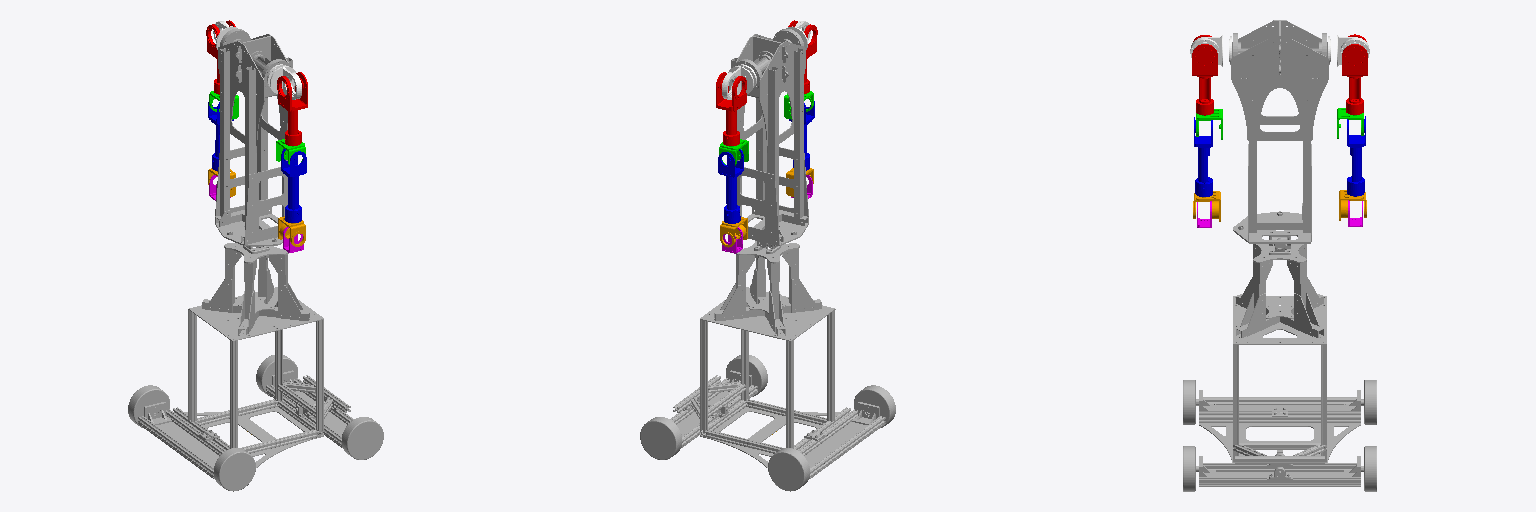
robot.urdf — neurofull:
<robot
  name="neurofull">
  <link 
    name="base_footprint">
    <visual>
    <origin rpy="0 0 0" xyz="0 0 0"/>
    <geometry>
       <box size="0.05 0.05 0.001"/>
    </geometry>
    <material name="TransparentGreen"/>
    </visual>
  </link>


  <link
    name="base_leg">
    <inertial>
      <origin
        xyz="0.00400262678839125 2.1950555277872E-06 0.0344645056443236"
        rpy="0 0 0" />
      <mass
        value="4.96180110119092" />
      <inertia
        ixx="0.260181029472697"
        ixy="-1.8355788022317E-06"
        ixz="-0.00155137956745712"
        iyy="0.263728282272559"
        iyz="1.00993985627843E-07"
        izz="0.488283544882969" />
    </inertial>
    <visual>
      <origin
        xyz="0 0 0"
        rpy="0 0 0" />
      <geometry>
        <mesh
          filename="package://neurofull/meshes/base_leg.stl" />
      </geometry>
      <material
        name="">
        <color
          rgba="0.752941176470588 0.752941176470588 0.752941176470588 1" />
      </material>
    </visual>
    <collision>
      <origin
        xyz="0 0 0"
        rpy="0 0 0" />
      <geometry>
        <mesh
          filename="package://neurofull/meshes/base_leg.stl" />
      </geometry>
    </collision>
  </link>

  <joint name="joint_footprint" type="fixed">
    <origin rpy="0 0 0" xyz="0 0 0"/>
    <parent link="base_footprint"/>
    <child link="base_leg"/>
  </joint>


  <link
    name="base_link">
    <inertial>
      <origin
        xyz="-0.00763079814674683 -0.000785897750140402 0.497022585106364"
        rpy="0 0 0" />
      <mass
        value="2.64772097817827" />
      <inertia
        ixx="0.355578054616091"
        ixy="0.00054044346883383"
        ixz="0.00826972267071127"
        iyy="0.354512666156879"
        iyz="-0.00128012471195156"
        izz="0.0346040156500564" />
    </inertial>
    <visual>
      <origin
        xyz="0 0 0"
        rpy="0 0 0" />
      <geometry>
        <mesh
          filename="package://neurofull/meshes/base_link.stl" />
      </geometry>
      <material
        name="">
        <color
          rgba="0.752941176470588 0.752941176470588 0.752941176470588 1" />
      </material>
    </visual>
    <collision>
      <origin
        xyz="0 0 0"
        rpy="0 0 0" />
      <geometry>
        <mesh
          filename="package://neurofull/meshes/base_link.stl" />
      </geometry>
    </collision>
  </link>
  <joint
    name="base_link_joint"
    type="fixed">
    <origin
      xyz="0 0 0.423"
      rpy="0 0 0" />
    <parent
      link="base_leg" />
    <child
      link="base_link" />
    <axis
      xyz="0 0 0" />
  </joint>

  <link
    name="left_arm_link0">
  </link>
  <joint
    name="left_arm_joint0"
    type="fixed">
    <origin
      xyz="0 0.146 0.917"
      rpy="-1.5708 0 0" />
    <parent
      link="base_link" />
    <child
      link="left_arm_link0" />
    <axis
      xyz="0 0 0" />
  </joint>




  <link
    name="left_arm_link1">
    <inertial>
      <origin
        xyz="0.00300938170182485 4.17797500410488E-05 0.0472461416838423"
        rpy="0 0 0" />
      <mass
        value="0.139895412046326" />
      <inertia
        ixx="0.000291527799787079"
        ixy="7.02048677679412E-07"
        ixz="-1.54733263205051E-05"
        iyy="0.000240969210302021"
        iyz="-2.14818780078269E-07"
        izz="0.000151629908718559" />
    </inertial>
    <visual>
      <origin
        xyz="0 0 0"
        rpy="0 0 0" />
      <geometry>
        <mesh
          filename="package://neurofull/meshes/left_arm_link1.stl" />
      </geometry>
      <material
        name="">
        <color
          rgba="1 1 1 1" />
      </material>
    </visual>
    <collision>
      <origin
        xyz="0 0 0"
        rpy="0 0 0" />
      <geometry>
        <mesh
          filename="package://neurofull/meshes/left_arm_link1.stl" />
      </geometry>
    </collision>
  </link>
  <joint
    name="left_arm_join1"
    type="revolute">
    <origin
      xyz="0 0 0.001"
      rpy="0 0 0" />
    <parent
      link="left_arm_link0" />
    <child
      link="left_arm_link1" />
    <axis
      xyz="0 0 -1" />
    <limit
      lower="-1.57"
      upper="1.57"
      effort="2"
      velocity="1" />
  </joint>
  <link
    name="left_arm_link2">
    <inertial>
      <origin
        xyz="0.0747629358729344 -4.29495040954464E-06 0.00679271522336344"
        rpy="0 0 0" />
      <mass
        value="0.222706771538381" />
      <inertia
        ixx="0.000221293565894878"
        ixy="9.64715999128791E-08"
        ixz="1.17177262431235E-05"
        iyy="0.00108680182339941"
        iyz="7.3745697887011E-10"
        izz="0.00105620684573982" />
    </inertial>
    <visual>
      <origin
        xyz="0 0 0"
        rpy="0 0 0" />
      <geometry>
        <mesh
          filename="package://neurofull/meshes/left_arm_link2.stl" />
      </geometry>
      <material
        name="">
        <color
          rgba="1 0 0 1" />
      </material>
    </visual>
    <collision>
      <origin
        xyz="0 0 0"
        rpy="0 0 0" />
      <geometry>
        <mesh
          filename="package://neurofull/meshes/left_arm_link2.stl" />
      </geometry>
    </collision>
  </link>
  <joint
    name="left_arm_joint2"
    type="revolute">
    <origin
      xyz="-0.0039996 -5.5527E-05 0.084"
      rpy="1.5708 0 1.5708" />
    <parent
      link="left_arm_link1" />
    <child
      link="left_arm_link2" />
    <axis
      xyz="-0.00059831 0 -1" />
    <limit
      lower="-0.78"
      upper="0.78"
      effort="2"
      velocity="1" />
  </joint>
  <link
    name="left_arm_link3">
    <inertial>
      <origin
        xyz="0.0153020226123045 1.11022302462516E-16 0.0252980249667199"
        rpy="0 0 0" />
      <mass
        value="0.078971511055653" />
      <inertia
        ixx="7.19666232277633E-05"
        ixy="-2.29834747206398E-21"
        ixz="-1.68863370887188E-05"
        iyy="0.000116283270534729"
        iyz="5.15631306641055E-20"
        izz="0.000104168336512131" />
    </inertial>
    <visual>
      <origin
        xyz="0 0 0"
        rpy="0 0 0" />
      <geometry>
        <mesh
          filename="package://neurofull/meshes/left_arm_link3.stl" />
      </geometry>
      <material
        name="">
        <color
          rgba="0 1 0.00392156862745098 1" />
      </material>
    </visual>
    <collision>
      <origin
        xyz="0 0 0"
        rpy="0 0 0" />
      <geometry>
        <mesh
          filename="package://neurofull/meshes/left_arm_link3.stl" />
      </geometry>
    </collision>
  </link>
  <joint
    name="left_arm_joint3"
    type="revolute">
    <origin
      xyz="0.20512 0 0.0071533"
      rpy="-1.5847 5.8872E-15 -1.5708" />
    <parent
      link="left_arm_link2" />
    <child
      link="left_arm_link3" />
    <axis
      xyz="0 0 -1" />
    <limit
      lower="-3.14"
      upper="3.14"
      effort="2"
      velocity="1" />
  </joint>
  <link
    name="left_arm_link4">
    <inertial>
      <origin
        xyz="0.110276144822307 -0.00150620140288349 -0.00524029089318234"
        rpy="0 0 0" />
      <mass
        value="0.163592437075005" />
      <inertia
        ixx="9.18715474899927E-05"
        ixy="1.14360963815123E-05"
        ixz="-1.44049786151869E-05"
        iyy="0.000940484151135754"
        iyz="1.90547978307357E-07"
        izz="0.000935522761640683" />
    </inertial>
    <visual>
      <origin
        xyz="0 0 0"
        rpy="0 0 0" />
      <geometry>
        <mesh
          filename="package://neurofull/meshes/left_arm_link4.stl" />
      </geometry>
      <material
        name="">
        <color
          rgba="0 0 1 1" />
      </material>
    </visual>
    <collision>
      <origin
        xyz="0 0 0"
        rpy="0 0 0" />
      <geometry>
        <mesh
          filename="package://neurofull/meshes/left_arm_link4.stl" />
      </geometry>
    </collision>
  </link>
  <joint
    name="left_arm_joint4"
    type="revolute">
    <origin
      xyz="0.0005 0 0.05"
      rpy="-1.5708 -1.5569 -1.5708" />
    <parent
      link="left_arm_link3" />
    <child
      link="left_arm_link4" />
    <axis
      xyz="0 0 1" />
    <limit
      lower="-1.57"
      upper="1.57"
      effort="2"
      velocity="1" />
  </joint>
  <link
    name="left_arm_link5">
    <inertial>
      <origin
        xyz="-0.0172107616415242 0.00307675448483002 -0.0343646132131293"
        rpy="0 0 0" />
      <mass
        value="0.0975990294014391" />
      <inertia
        ixx="9.17613388444776E-05"
        ixy="1.93938108659678E-06"
        ixz="-2.18069280623664E-05"
        iyy="0.000145599253848535"
        iyz="3.27545465049375E-06"
        izz="0.000109308596470807" />
    </inertial>
    <visual>
      <origin
        xyz="0 0 0"
        rpy="0 0 0" />
      <geometry>
        <mesh
          filename="package://neurofull/meshes/left_arm_link5.stl" />
      </geometry>
      <material
        name="">
        <color
          rgba="1 0.666666666666667 0 1" />
      </material>
    </visual>
    <collision>
      <origin
        xyz="0 0 0"
        rpy="0 0 0" />
      <geometry>
        <mesh
          filename="package://neurofull/meshes/left_arm_link5.stl" />
      </geometry>
    </collision>
  </link>
  <joint
    name="left_arm_joint5"
    type="revolute">
    <origin
      xyz="0.22798 -0.0031651 -0.0029121"
      rpy="3.0662 1.5708 0" />
    <parent
      link="left_arm_link4" />
    <child
      link="left_arm_link5" />
    <axis
      xyz="0 -0.089176 0.99602" />
    <limit
      lower="-3.14"
      upper="3.14"
      effort="2"
      velocity="1" />
  </joint>
  <link
    name="left_arm_link6">
    <inertial>
      <origin
        xyz="-0.000399331301654704 -0.0287637027705798 0.000345123561378113"
        rpy="0 0 0" />
      <mass
        value="0.0342933650278285" />
      <inertia
        ixx="2.81251487192025E-05"
        ixy="-9.52330011495129E-08"
        ixz="8.00630003676371E-09"
        iyy="2.12668689963334E-05"
        iyz="5.76691167452361E-07"
        izz="2.57654425067355E-05" />
    </inertial>
    <visual>
      <origin
        xyz="0 0 0"
        rpy="0 0 0" />
      <geometry>
        <mesh
          filename="package://neurofull/meshes/left_arm_link6.stl" />
      </geometry>
      <material
        name="">
        <color
          rgba="1 0 1 1" />
      </material>
    </visual>
    <collision>
      <origin
        xyz="0 0 0"
        rpy="0 0 0" />
      <geometry>
        <mesh
          filename="package://neurofull/meshes/left_arm_link6.stl" />
      </geometry>
    </collision>
  </link>
  <joint
    name="left_arm_joint6"
    type="revolute">
    <origin
      xyz="0.001 0.0049047 -0.054781"
      rpy="1.5708 0.075412 -1.5708" />
    <parent
      link="left_arm_link5" />
    <child
      link="left_arm_link6" />
    <axis
      xyz="0 0 1" />
    <limit
      lower="-1.57"
      upper="1.57"
      effort="2"
      velocity="1" />
  </joint>

  <link
    name="right_arm_link0">
  </link>
  <joint
    name="right_arm_joint0"
    type="fixed">
    <origin
      xyz="0 -0.146 0.917"
      rpy="1.5708 0 0" />
    <parent
      link="base_link" />
    <child
      link="right_arm_link0" />
    <axis
      xyz="0 0 0" />
  </joint>




  <link
    name="right_arm_link1">
    <inertial>
      <origin
        xyz="0.00300967116680029 -1.80070211996952E-06 0.0472461416840107"
        rpy="0 0 0" />
      <mass
        value="0.139895412046325" />
      <inertia
        ixx="0.000291537528341602"
        ixy="-3.02611226515367E-08"
        ixz="-1.54748146614687E-05"
        iyy="0.000240959481748641"
        iyz="9.25866316314585E-09"
        izz="0.000151629908718559" />
    </inertial>
    <visual>
      <origin
        xyz="0 0 0"
        rpy="0 0 0" />
      <geometry>
        <mesh
          filename="package://neurofull/meshes/right_arm_link1.stl" />
      </geometry>
      <material
        name="">
        <color
          rgba="1 1 1 1" />
      </material>
    </visual>
    <collision>
      <origin
        xyz="0 0 0"
        rpy="0 0 0" />
      <geometry>
        <mesh
          filename="package://neurofull/meshes/right_arm_link1.stl" />
      </geometry>
    </collision>
  </link>
  <joint
    name="right_arm_joint1"
    type="revolute">
    <origin
      xyz="0 0 0.001"
      rpy="0 0 0" />
    <parent
      link="right_arm_link0" />
    <child
      link="right_arm_link1" />
    <axis
      xyz="0 0 1" />
    <limit
      lower="-1.57"
      upper="1.57"
      effort="2"
      velocity="1" />
  </joint>
  <link
    name="right_arm_link2">
    <inertial>
      <origin
        xyz="0.0746661079181091 -4.29495033152372E-06 0.00778523531588626"
        rpy="0 0 0" />
      <mass
        value="0.222706771537626" />
      <inertia
        ixx="0.000221129610017924"
        ixy="9.6453292163997E-08"
        ixz="6.23932395302156E-07"
        iyy="0.00108680182343279"
        iyz="2.01887974864766E-09"
        izz="0.00105637080165108" />
    </inertial>
    <visual>
      <origin
        xyz="0 0 0"
        rpy="0 0 0" />
      <geometry>
        <mesh
          filename="package://neurofull/meshes/right_arm_link2.stl" />
      </geometry>
      <material
        name="">
        <color
          rgba="1 0 0 1" />
      </material>
    </visual>
    <collision>
      <origin
        xyz="0 0 0"
        rpy="0 0 0" />
      <geometry>
        <mesh
          filename="package://neurofull/meshes/right_arm_link2.stl" />
      </geometry>
    </collision>
  </link>
  <joint
    name="right_arm_joint2"
    type="revolute">
    <origin
      xyz="-0.004 0 0.084"
      rpy="-1.5708 0 -1.5708" />
    <parent
      link="right_arm_link1" />
    <child
      link="right_arm_link2" />
    <axis
      xyz="-0.00059831 0 -1" />
    <limit
      lower="-0.78"
      upper="0.78"
      effort="2"
      velocity="1" />
  </joint>
  <link
    name="right_arm_link3">
    <inertial>
      <origin
        xyz="0.0153020226123045 -4.44089209850063E-16 0.0252980249667199"
        rpy="0 0 0" />
      <mass
        value="0.0789715110556525" />
      <inertia
        ixx="7.1966623227763E-05"
        ixy="9.12970822603372E-19"
        ixz="-1.68863370887186E-05"
        iyy="0.000116283270534728"
        iyz="2.77416525115584E-19"
        izz="0.000104168336512131" />
    </inertial>
    <visual>
      <origin
        xyz="0 0 0"
        rpy="0 0 0" />
      <geometry>
        <mesh
          filename="package://neurofull/meshes/right_arm_link3.stl" />
      </geometry>
      <material
        name="">
        <color
          rgba="0 1 0.00392156862745098 1" />
      </material>
    </visual>
    <collision>
      <origin
        xyz="0 0 0"
        rpy="0 0 0" />
      <geometry>
        <mesh
          filename="package://neurofull/meshes/right_arm_link3.stl" />
      </geometry>
    </collision>
  </link>
  <joint
    name="right_arm_joint3"
    type="revolute">
    <origin
      xyz="0.20501 0 0.0098773"
      rpy="1.5714 8.5249E-17 1.5708" />
    <parent
      link="right_arm_link2" />
    <child
      link="right_arm_link3" />
    <axis
      xyz="0 0.013284 -0.99991" />
    <limit
      lower="-3.14"
      upper="3.14"
      effort="2"
      velocity="1" />
  </joint>
  <link
    name="right_arm_link4">
    <inertial>
      <origin
        xyz="0.110286393193599 9.07633075035719E-05 -0.00524029088871542"
        rpy="0 0 0" />
      <mass
        value="0.163592437071327" />
      <inertia
        ixx="9.1718321663276E-05"
        ixy="-8.5538514906755E-07"
        ixz="-1.44062275602948E-05"
        iyy="0.000940637376901673"
        iyz="-1.80574628596523E-08"
        izz="0.000935522761578219" />
    </inertial>
    <visual>
      <origin
        xyz="0 0 0"
        rpy="0 0 0" />
      <geometry>
        <mesh
          filename="package://neurofull/meshes/right_arm_link4.stl" />
      </geometry>
      <material
        name="">
        <color
          rgba="0 0 1 1" />
      </material>
    </visual>
    <collision>
      <origin
        xyz="0 0 0"
        rpy="0 0 0" />
      <geometry>
        <mesh
          filename="package://neurofull/meshes/right_arm_link4.stl" />
      </geometry>
    </collision>
  </link>
  <joint
    name="right_arm_joint4"
    type="revolute">
    <origin
      xyz="0.0005 0 0.05"
      rpy="1.5708 -1.5702 1.5708" />
    <parent
      link="right_arm_link3" />
    <child
      link="right_arm_link4" />
    <axis
      xyz="0 0 -1" />
    <limit
      lower="-1.57"
      upper="1.57"
      effort="2"
      velocity="1" />
  </joint>
  <link
    name="right_arm_link5">
    <inertial>
      <origin
        xyz="-0.0172107616415194 -2.06427685620625E-05 -0.0345020670877002"
        rpy="0 0 0" />
      <mass
        value="0.0975990294014401" />
      <inertia
        ixx="9.17613388444844E-05"
        ixy="-2.60974087719177E-08"
        ixz="-2.18929812826313E-05"
        iyy="0.000145892500744109"
        iyz="-2.2063801782706E-08"
        izz="0.000109015349575228" />
    </inertial>
    <visual>
      <origin
        xyz="0 0 0"
        rpy="0 0 0" />
      <geometry>
        <mesh
          filename="package://neurofull/meshes/right_arm_link5.stl" />
      </geometry>
      <material
        name="">
        <color
          rgba="1 0.666666666666667 0 1" />
      </material>
    </visual>
    <collision>
      <origin
        xyz="0 0 0"
        rpy="0 0 0" />
      <geometry>
        <mesh
          filename="package://neurofull/meshes/right_arm_link5.stl" />
      </geometry>
    </collision>
  </link>
  <joint
    name="right_arm_joint5"
    type="revolute">
    <origin
      xyz="0.228 0.00013641 -0.0029121"
      rpy="3.1416 1.5708 0" />
    <parent
      link="right_arm_link4" />
    <child
      link="right_arm_link5" />
    <axis
      xyz="0 0.013882 0.9999" />
    <limit
      lower="-3.14"
      upper="3.14"
      effort="2"
      velocity="1" />
  </joint>
  <link
    name="right_arm_link6">
    <inertial>
      <origin
        xyz="-1.72111302869649E-05 -0.02876646947993 -0.000345123561374117"
        rpy="0 0 0" />
      <mass
        value="0.0342933650278285" />
      <inertia
        ixx="2.81264683989044E-05"
        ixy="-4.10492551289922E-09"
        ixz="-3.45070552990902E-10"
        iyy="2.12655493166313E-05"
        iyz="-5.76746637947283E-07"
        izz="2.57654425067357E-05" />
    </inertial>
    <visual>
      <origin
        xyz="0 0 0"
        rpy="0 0 0" />
      <geometry>
        <mesh
          filename="package://neurofull/meshes/right_arm_link6.stl" />
      </geometry>
      <material
        name="">
        <color
          rgba="1 0 1 1" />
      </material>
    </visual>
    <collision>
      <origin
        xyz="0 0 0"
        rpy="0 0 0" />
      <geometry>
        <mesh
          filename="package://neurofull/meshes/right_arm_link6.stl" />
      </geometry>
    </collision>
  </link>
  <joint
    name="right_arm_joint6"
    type="revolute">
    <origin
      xyz="0.001 -3.2907E-05 -0.055"
      rpy="1.5708 0 1.5708" />
    <parent
      link="right_arm_link5" />
    <child
      link="right_arm_link6" />
    <axis
      xyz="0 0 1" />
    <limit
      lower="-1.57"
      upper="1.57"
      effort="2"
      velocity="1" />
  </joint>
</robot>

--- Facts derived from the render (not from the file) ---
The picture shows the robot from 3 angles, left to right: view 1: azimuth 30°, elevation 25°; view 2: azimuth 150°, elevation 25°; view 3: azimuth 270°, elevation 25°; orthographic projection.
Model neurofull with 17 links and 16 joints (12 revolute, 4 fixed), rooted at base_footprint, posed all joints at 0.
Visible links, largest first — view 1: base_link, base_leg, right_arm_link2, right_arm_link4, right_arm_link1; view 2: base_link, base_leg, left_arm_link2, left_arm_link4, left_arm_link1; view 3: base_link, base_leg, right_arm_link2, left_arm_link2, left_arm_link4, right_arm_link4.
Link boxes in pixels (x1,y1,x2,y2): base_link: (188,28,323,341); base_leg: (128,302,383,491); right_arm_link2: (277,72,307,145); right_arm_link4: (281,149,306,222); right_arm_link1: (267,64,301,99); base_link: (700,29,835,341); base_leg: (640,302,895,491); left_arm_link2: (716,72,746,145); left_arm_link4: (718,149,743,223); left_arm_link1: (722,64,756,99); base_link: (1231,20,1328,344); base_leg: (1183,345,1376,491); right_arm_link2: (1192,35,1217,115); left_arm_link2: (1342,34,1367,114); left_arm_link4: (1347,116,1365,196); right_arm_link4: (1194,117,1212,196).
Bounding box of the posed robot: 0.624 × 0.6 × 1.45 m (x, y, z).
14 mesh visuals loaded from 14 distinct referenced files (14 binary STL).